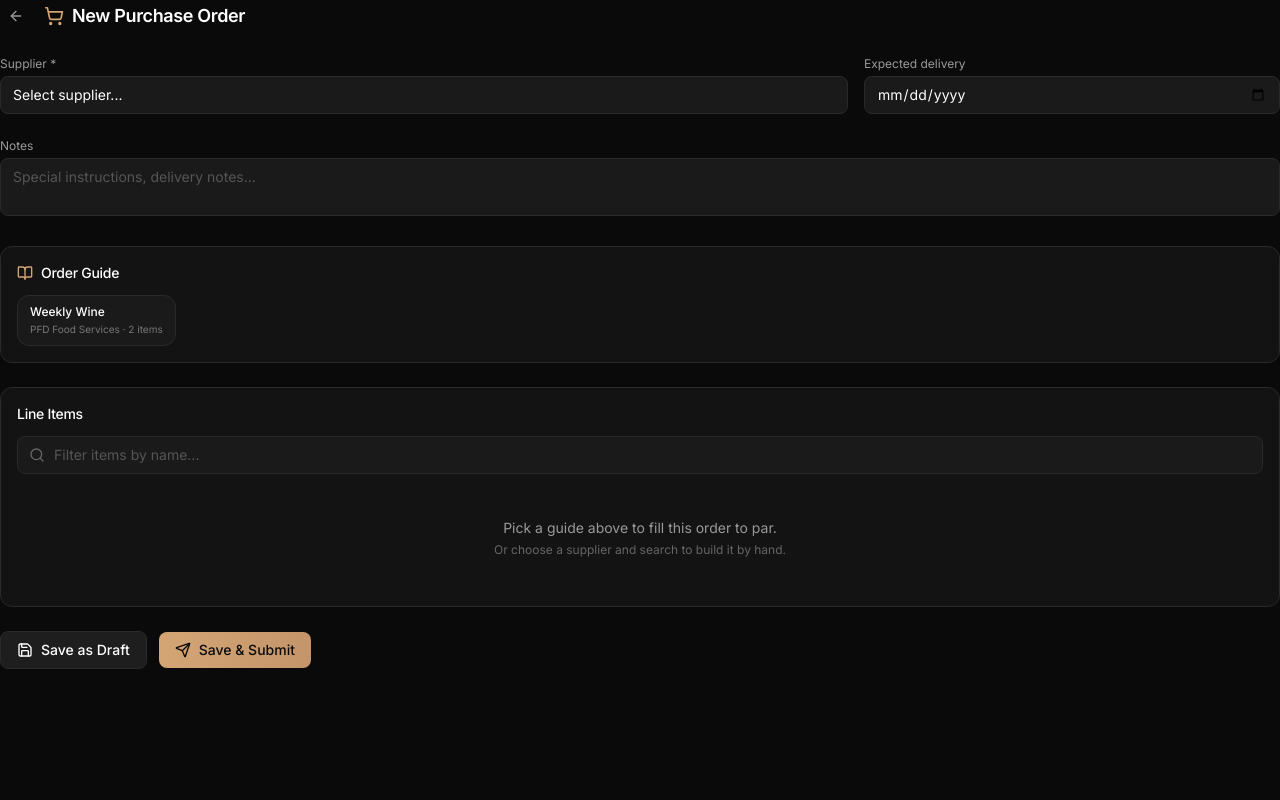
Test case: PurchaseOrderForm — order-guide-first › fills the draft to par IN THE PURCHASE UNIT when a guide is picked
Check: the field showing "3" is not shown
Click the text "Weekly Wine": (67, 312) [30,304,105,319]
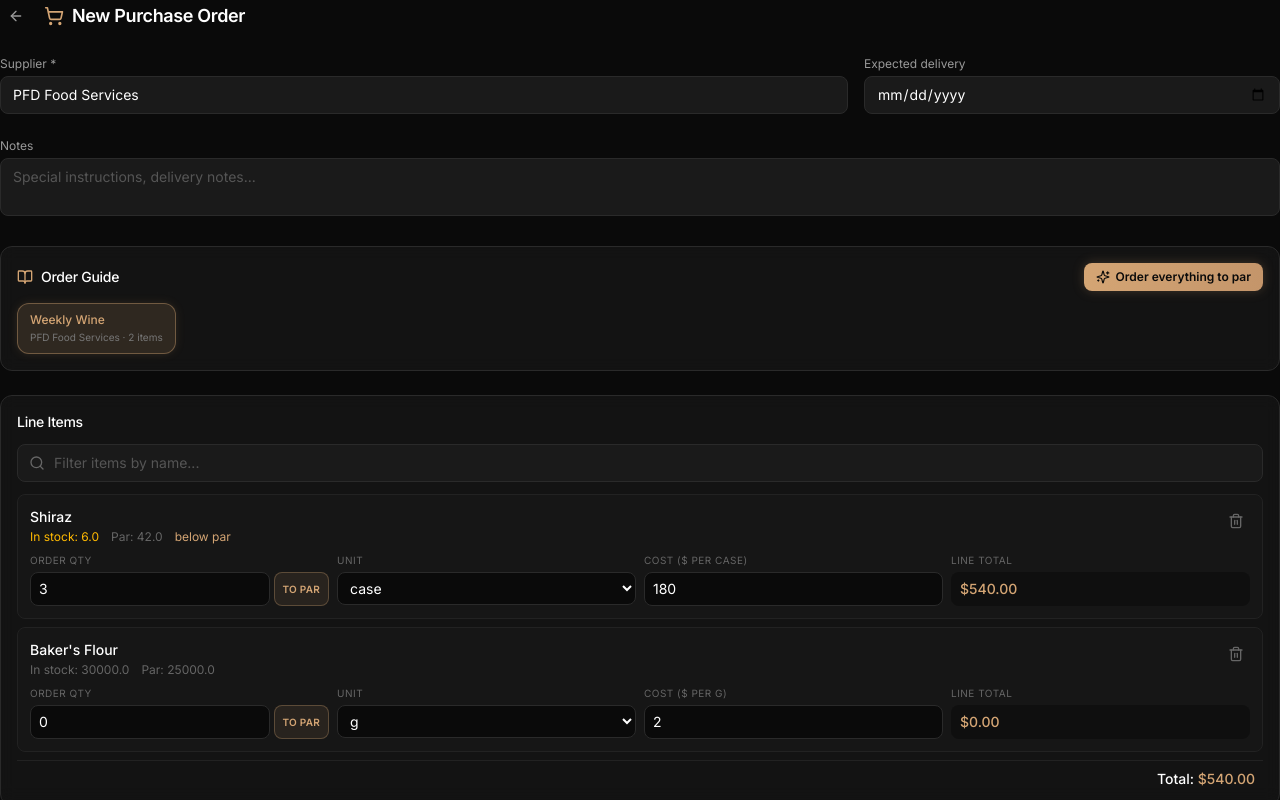
Check: the 1st number field showing "3" is shown, box [30,572,270,606]
Check: the text "In stock: 6.0" is shown, box [30,529,99,545]
Check: the text "Par: 42.0" is shown, box [111,529,163,545]
